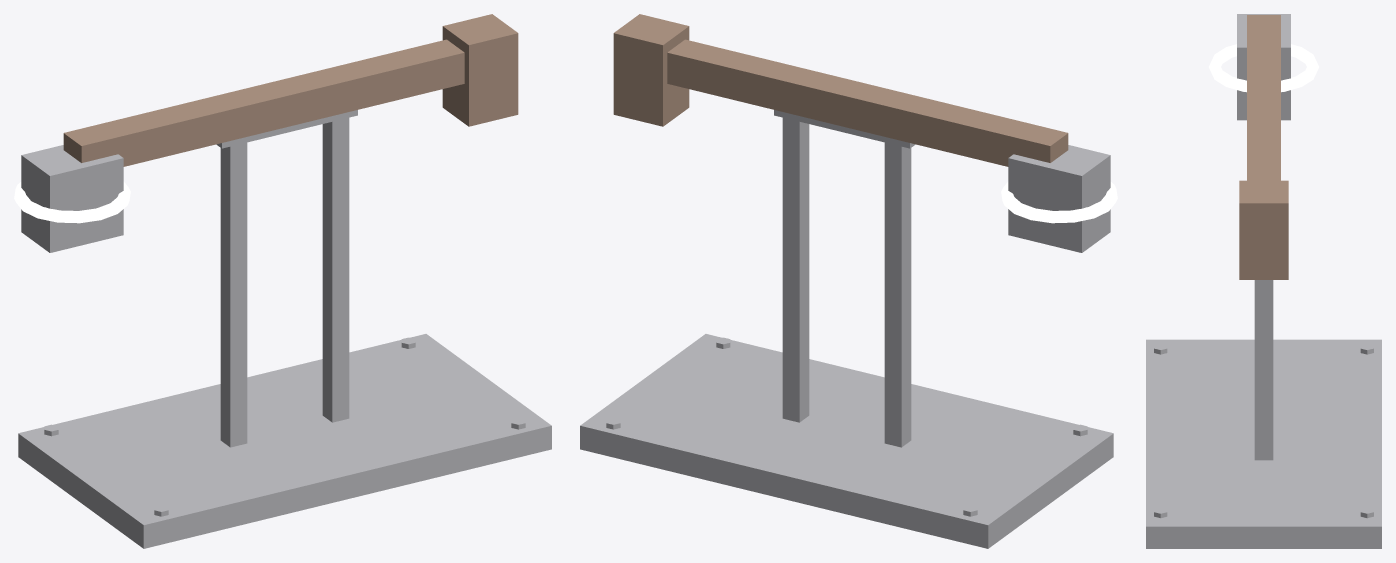
File: pump_jack_rare.glb
3 renders of one model, left to right at view 1: azimuth 30°, elevation 25°; view 2: azimuth 150°, elevation 25°; view 3: azimuth 270°, elevation 25°, orthographic. The views are drawn at different scales.
Parts seen in each view (by area): view 1: pump_jack, beam; view 2: pump_jack, beam; view 3: pump_jack, beam.
Part boxes in pixels (x1,y1,x2,y2): pump_jack: (14,14,551,548); beam: (63,39,464,166); pump_jack: (580,14,1117,548); beam: (667,39,1068,166); pump_jack: (1146,14,1381,548); beam: (1247,15,1280,180).
Bounding box in the file's own units: 3.41 × 2.54 × 1.54.
